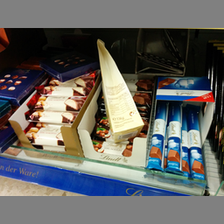chocolate: (96, 37, 144, 143), (18, 124, 72, 146), (151, 101, 165, 166), (31, 94, 83, 111), (170, 101, 181, 174)
